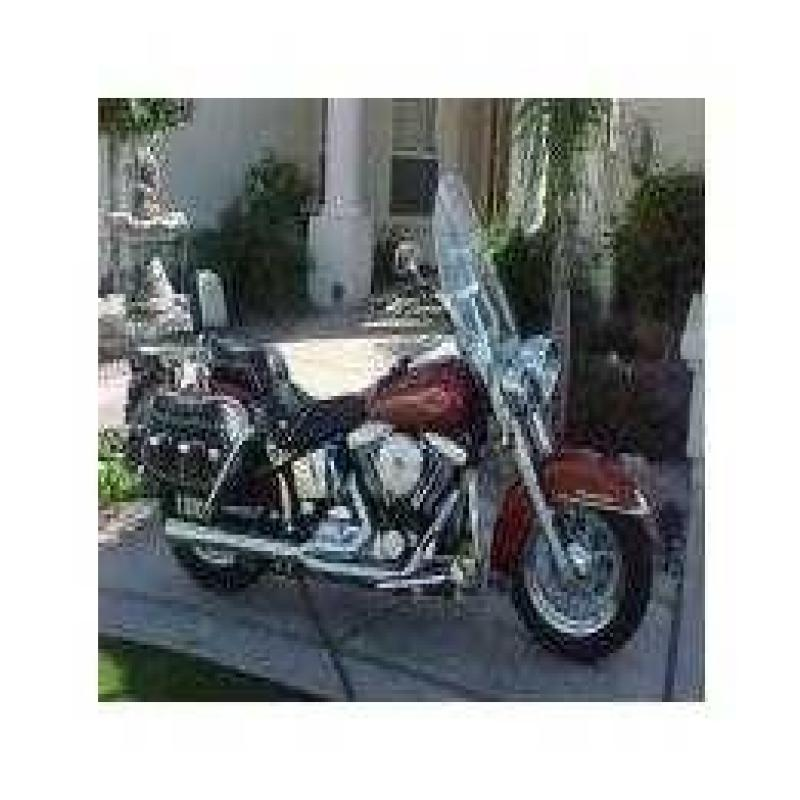bike: (126, 162, 631, 640)
